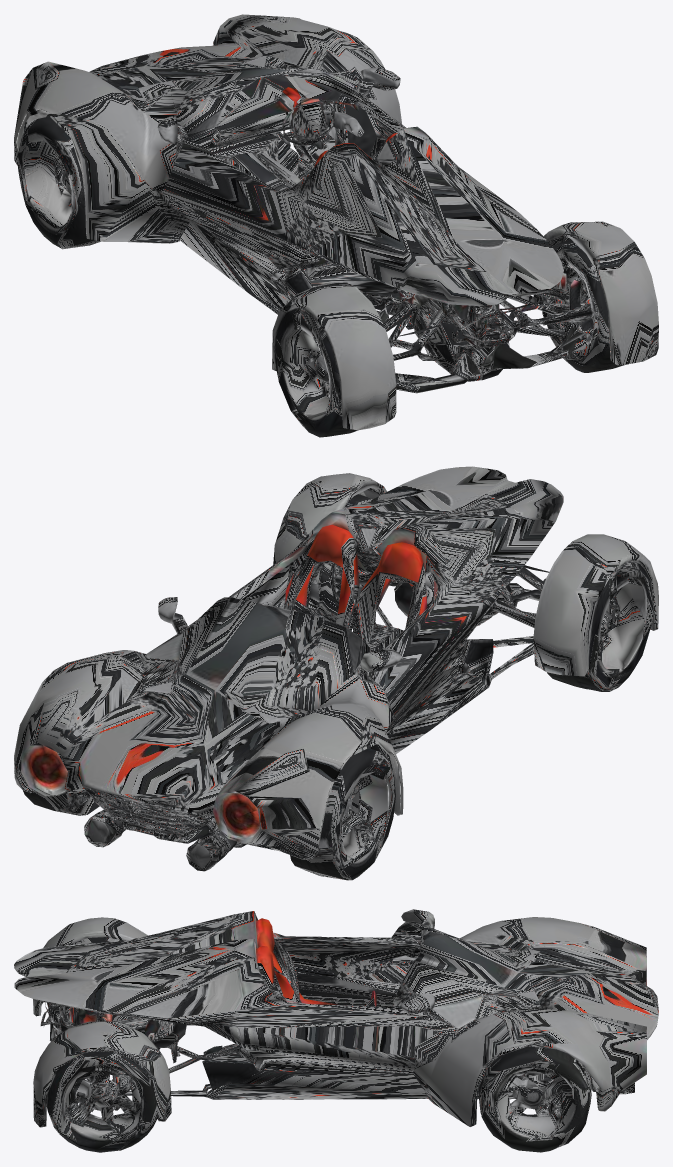
The model's file is vnCoupe.f32b0331.glb.
3 renders of one model, top to bottom at view 1: azimuth 30°, elevation 25°; view 2: azimuth 150°, elevation 25°; view 3: azimuth 270°, elevation 25°, orthographic. The views are drawn at different scales.
Parts seen in each view (by area): view 1: output_unwrapped; view 2: output_unwrapped; view 3: output_unwrapped.
Boxes of the visible parts, left/top/right/bottom form: output_unwrapped: left=14, top=14, right=658, bottom=437; output_unwrapped: left=14, top=466, right=658, bottom=880; output_unwrapped: left=14, top=909, right=658, bottom=1152.
Bounding box in the file's own units: 0.909 × 0.5349 × 1.9.
1 material, 1 textured.
